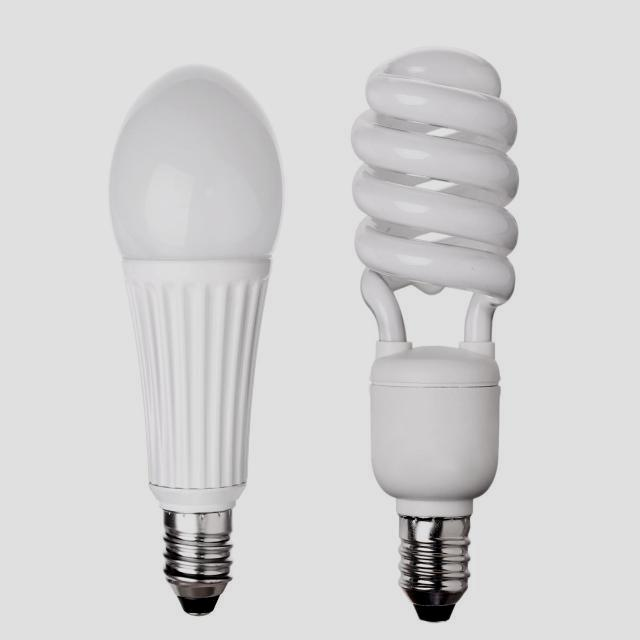B3: (341, 42, 544, 625), (104, 58, 285, 628)
